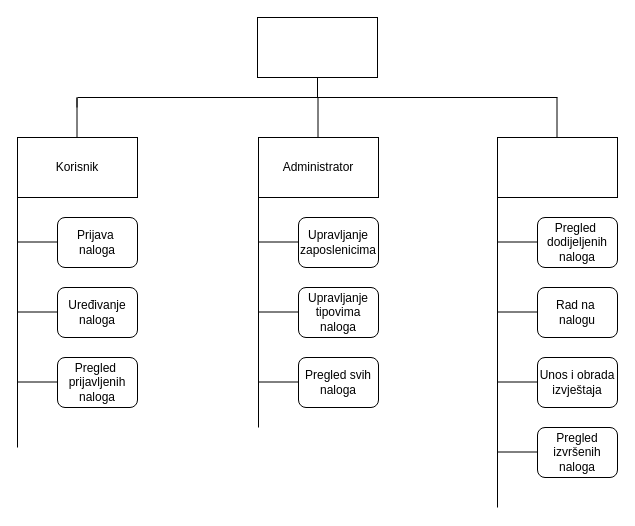
Image size: 635x526. Some labels were removed from this diagram. Here are the shapes that lost their labels. From the top down, the centre of each, then its label:
point 317,47: Služba održavanja
point 557,167: Izvršitelj
